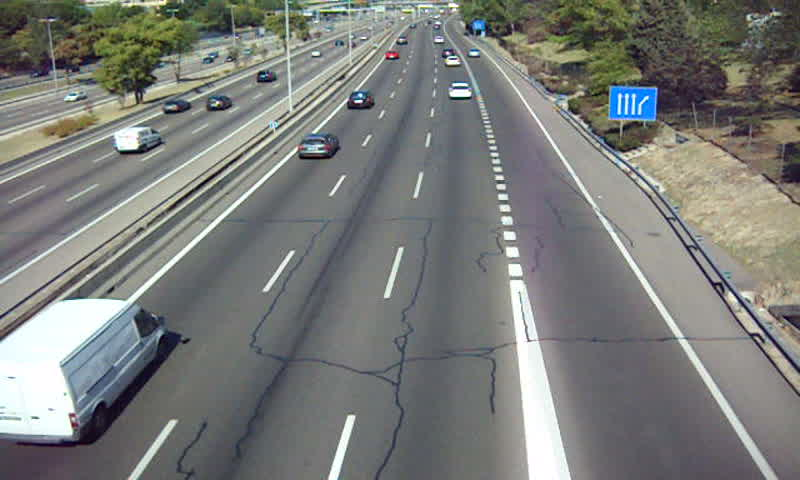car: (298, 134, 339, 158), (346, 90, 373, 110), (446, 82, 474, 100), (444, 55, 463, 67), (384, 50, 402, 61)
van: (1, 298, 162, 447)
